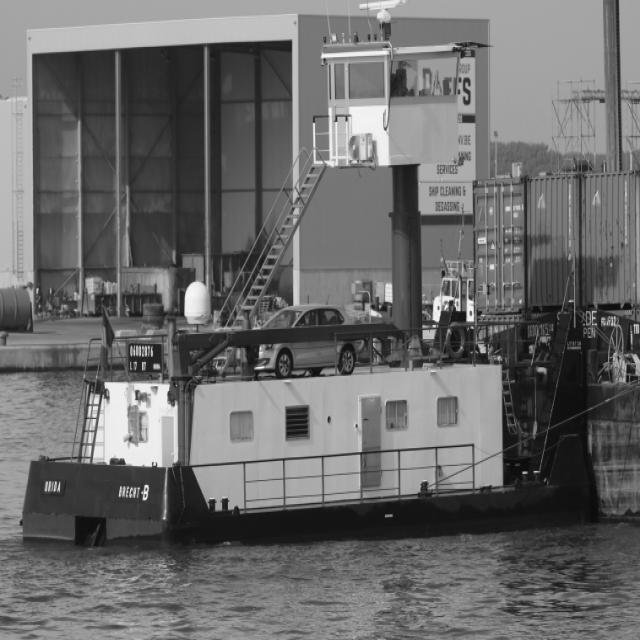tugboat: (12, 1, 578, 562)
